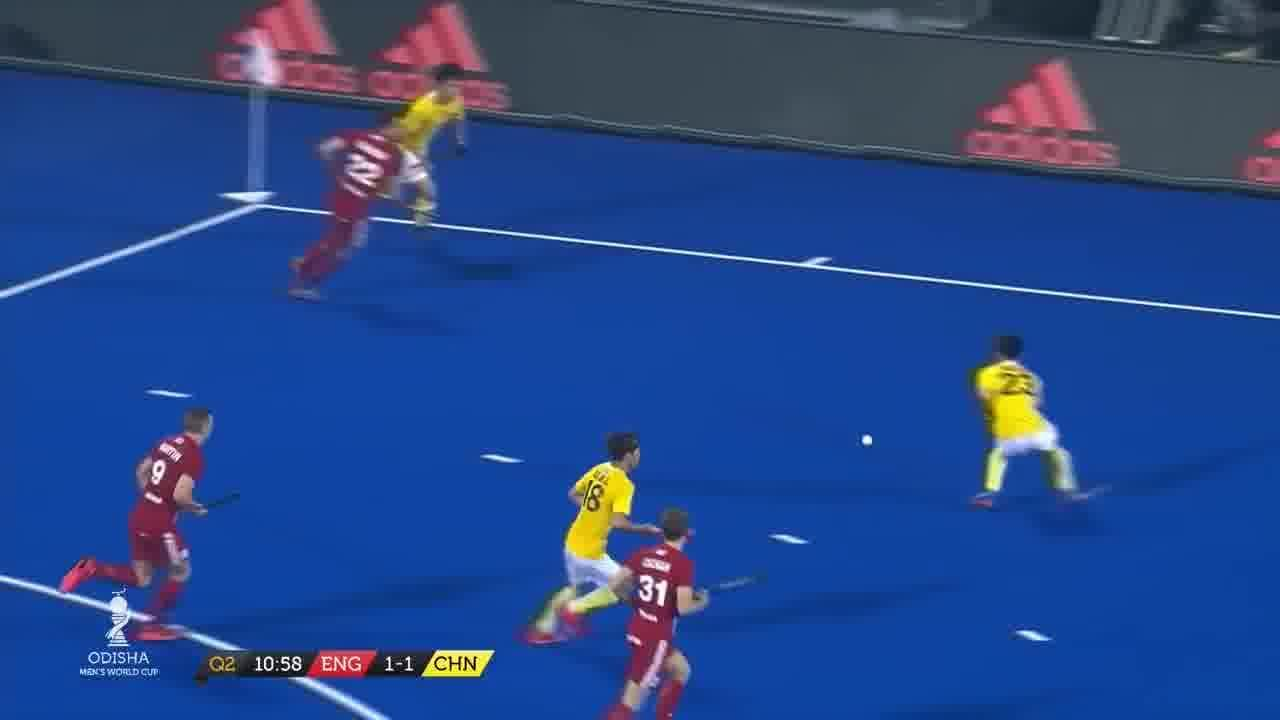ball: (858, 430, 882, 450)
